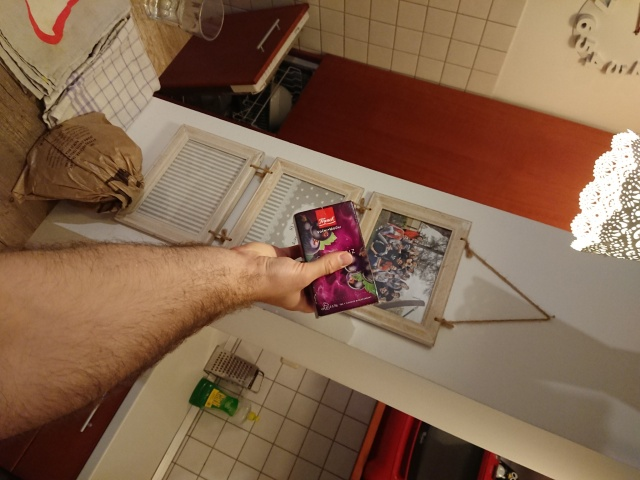Franck Black Currant Tea 60g: (291, 198, 381, 321)
